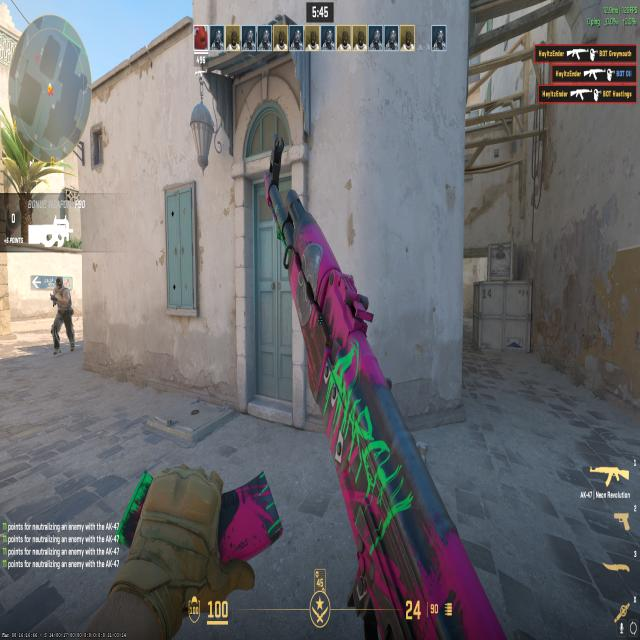t: (45, 269, 77, 363)
